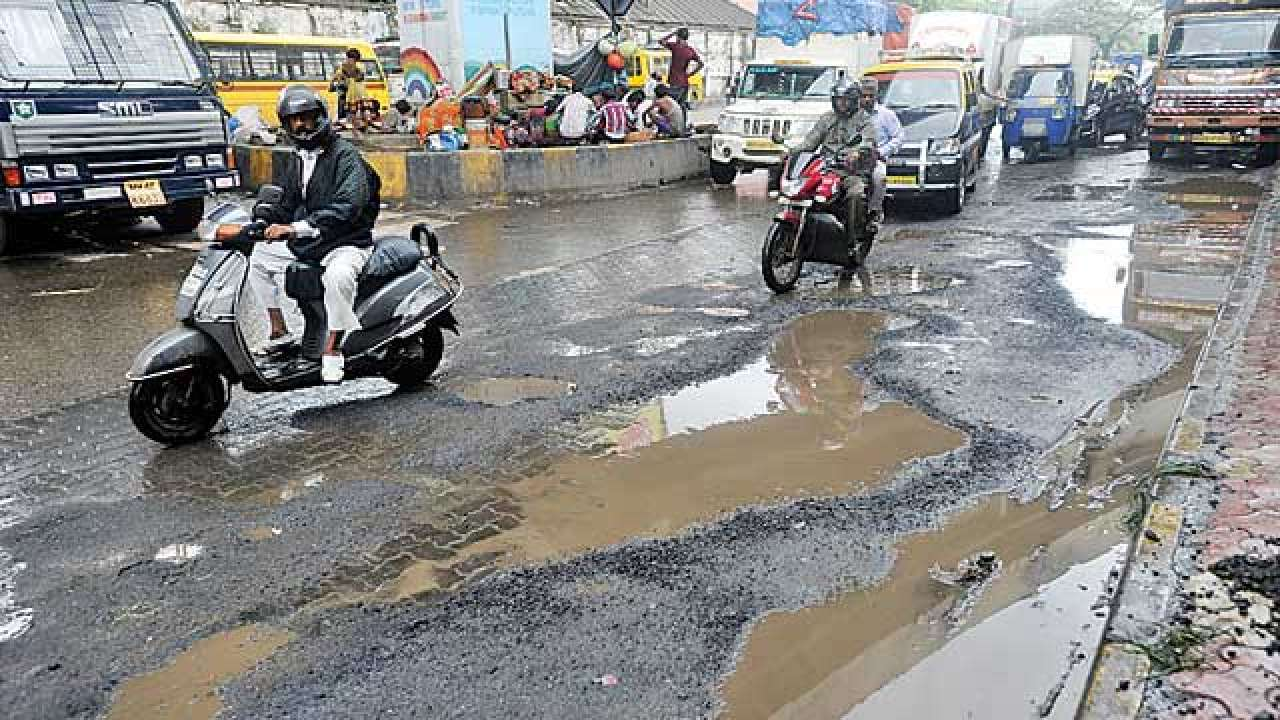pothole: (340, 306, 1073, 595), (670, 451, 1173, 712), (1044, 164, 1240, 371), (92, 642, 350, 717)
